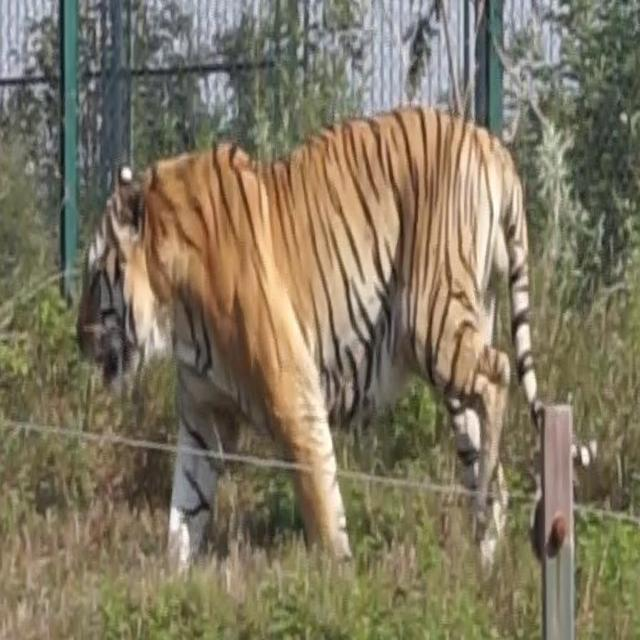tiger: (73, 102, 584, 581)
